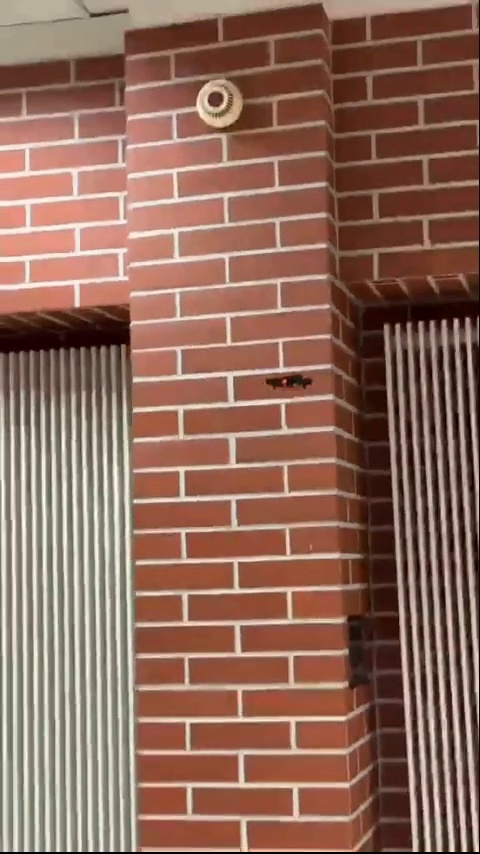drone: (265, 372, 324, 391)
